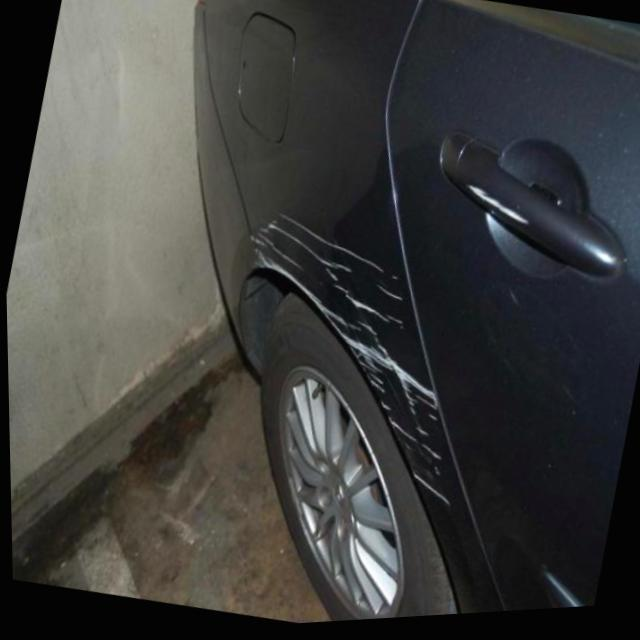Scratch: (238, 202, 451, 510), (461, 181, 531, 228)
